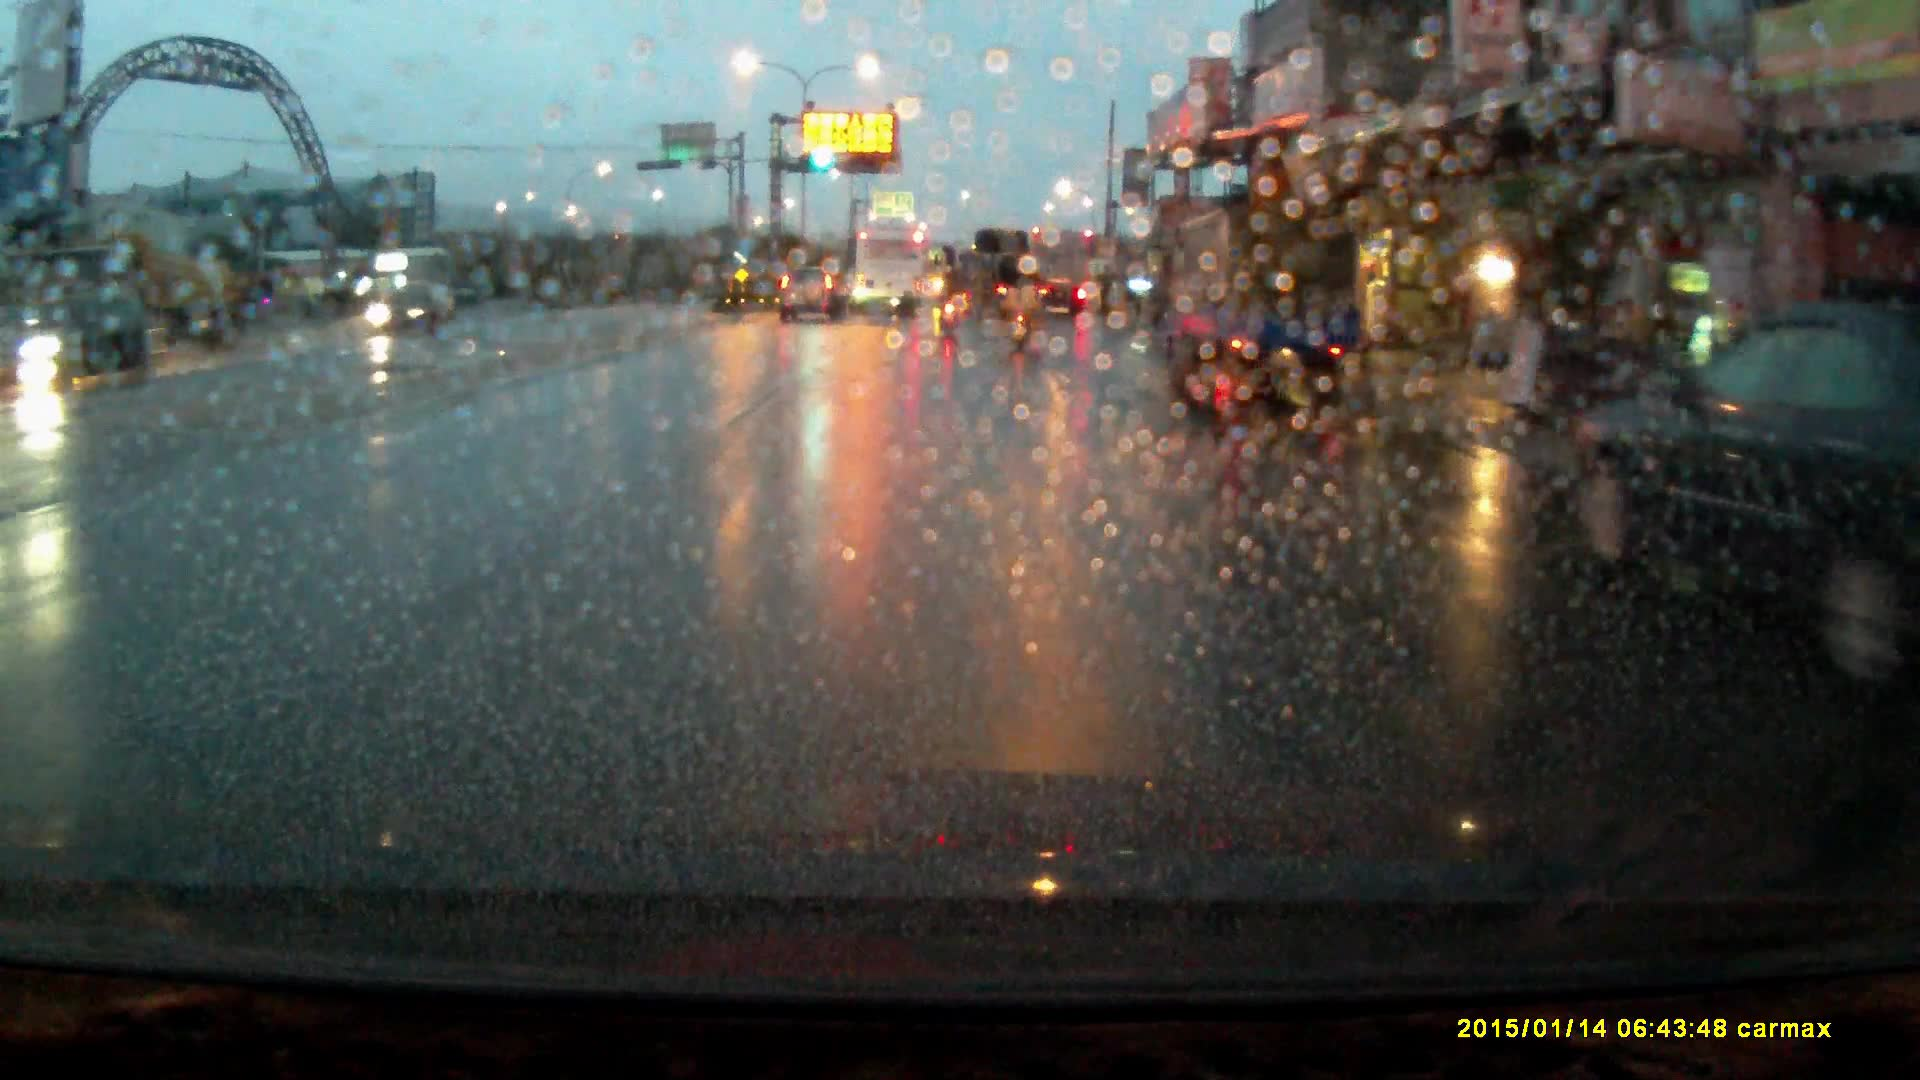rider: (1001, 276, 1041, 360), (932, 269, 964, 332)
vehicle: (1559, 308, 1920, 708), (1158, 215, 1366, 413), (30, 237, 251, 352), (1, 298, 153, 394), (971, 229, 1043, 322), (853, 232, 926, 319), (1034, 228, 1099, 315), (370, 281, 452, 341), (779, 267, 845, 327)
